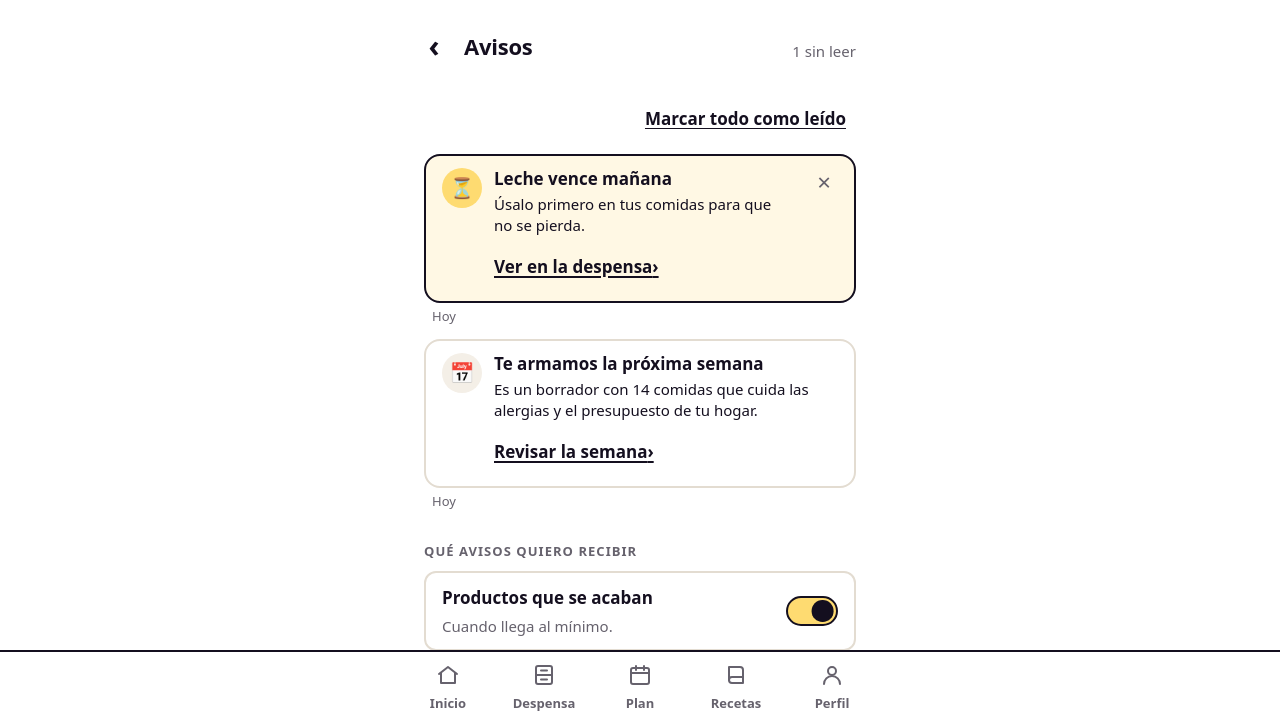
Scenario: Avisos (KAN-27, ADR-17) › el centro de avisos lista lo reciente, marca todo como leído y apaga un tipo
Check: the text "1 sin leer" is shown, box 792,40 -> 856,62
Check: the text "Hoy" is shown 2 times, box 432,307 -> 456,325; 432,492 -> 456,510
Step 1. Click the button "Marcar todo como leído" → point(746, 119), box 635,92 -> 856,146
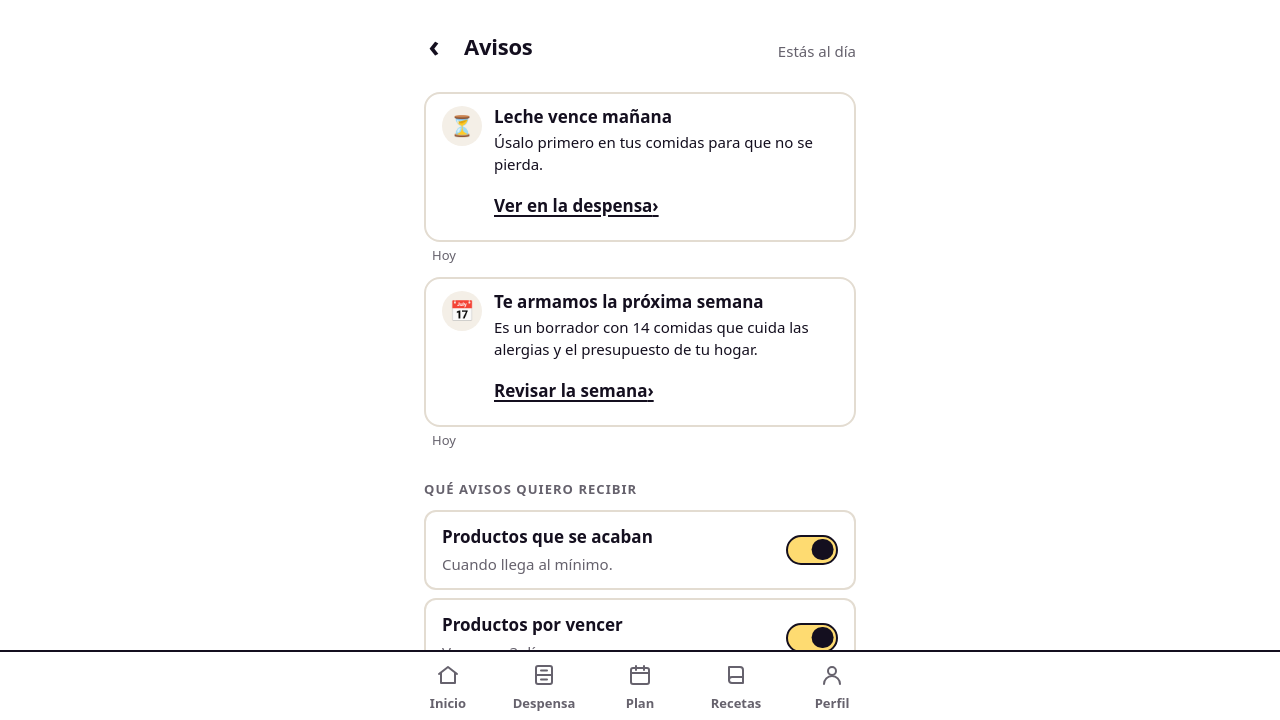
Check: the text "Estás al día" is shown, box 778,40 -> 856,62
Step 2. Click the switch labelled "Productos por vencer Vence en 3 días." → point(812, 638), box 786,623 -> 838,653
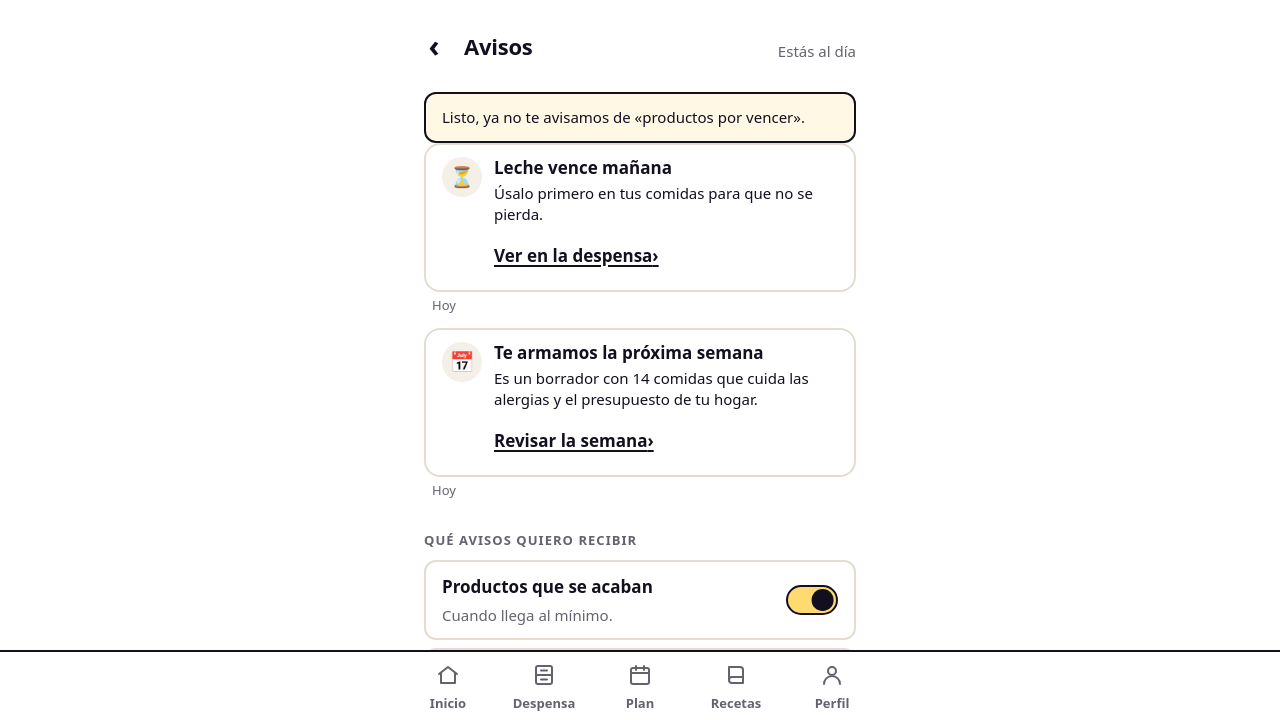
Check: the switch labelled "Productos por vencer Vence en 3 días." is not checked, box 786,673 -> 838,704
Check: the text "Listo, ya no te avisamos de «productos por vencer»." is shown, box 424,92 -> 856,142
